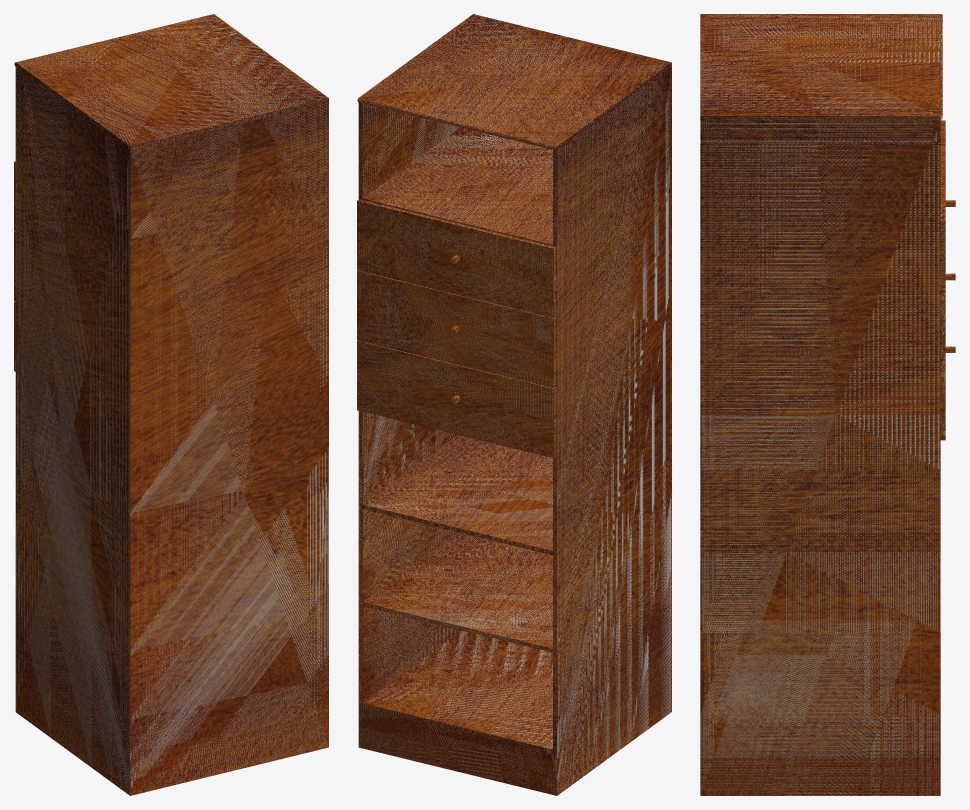
3 views of the same model, side by side, from view 1: azimuth 30°, elevation 25°; view 2: azimuth 150°, elevation 25°; view 3: azimuth 270°, elevation 25° (orthographic). The views are drawn at different scales.
Parts seen in each view (by area): view 1: mesh1_mesh1-geometry; view 2: mesh1_mesh1-geometry; view 3: mesh1_mesh1-geometry.
Part boxes in pixels (box(x1,y1,x2,y2)): mesh1_mesh1-geometry: box(14, 14, 328, 795); mesh1_mesh1-geometry: box(357, 14, 671, 795); mesh1_mesh1-geometry: box(700, 14, 955, 795).
Bounding box in the file's own units: 0.29 × 0.9061 × 0.3081.
